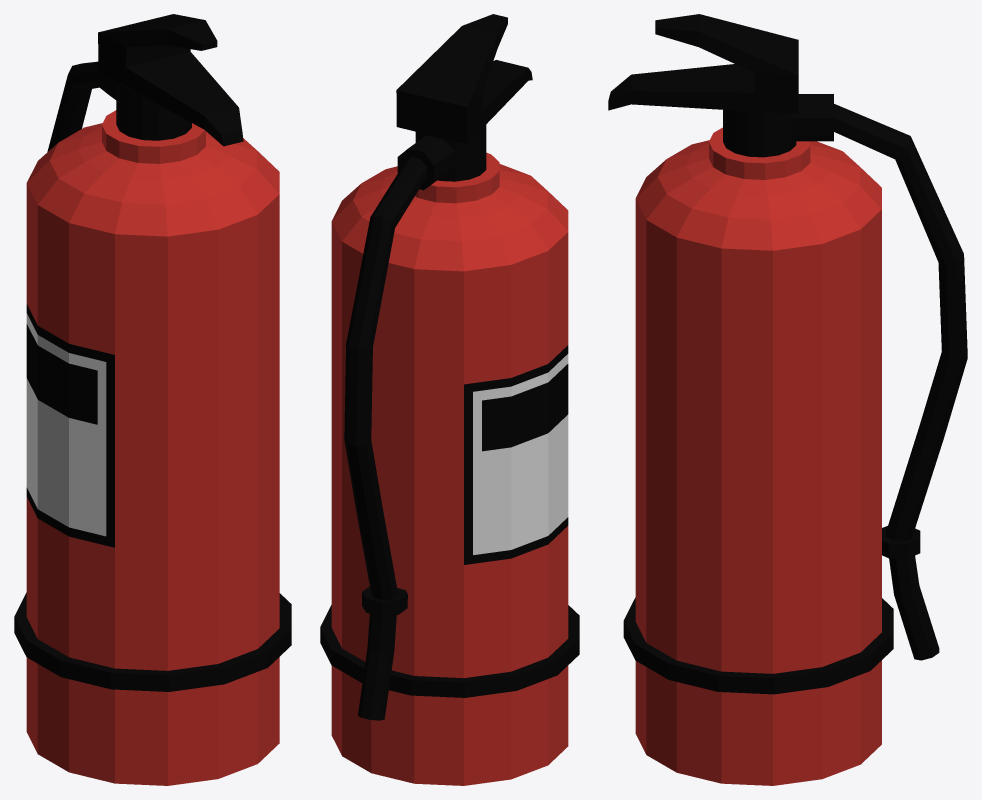
Rendered from fire_extinguisher.fbx.
3 renders of one model, left to right at view 1: azimuth 30°, elevation 25°; view 2: azimuth 150°, elevation 25°; view 3: azimuth 270°, elevation 25°, orthographic. The views are drawn at different scales.
Visible parts, largest first — view 1: fire_extinguisher; view 2: fire_extinguisher; view 3: fire_extinguisher.
Boxes of the visible parts, x1,y1,x2,y2 form: fire_extinguisher: (14, 14, 291, 785); fire_extinguisher: (320, 14, 579, 785); fire_extinguisher: (608, 14, 967, 785).
Bounding box in the file's own units: 0.6506 × 0.8612 × 1.88.
